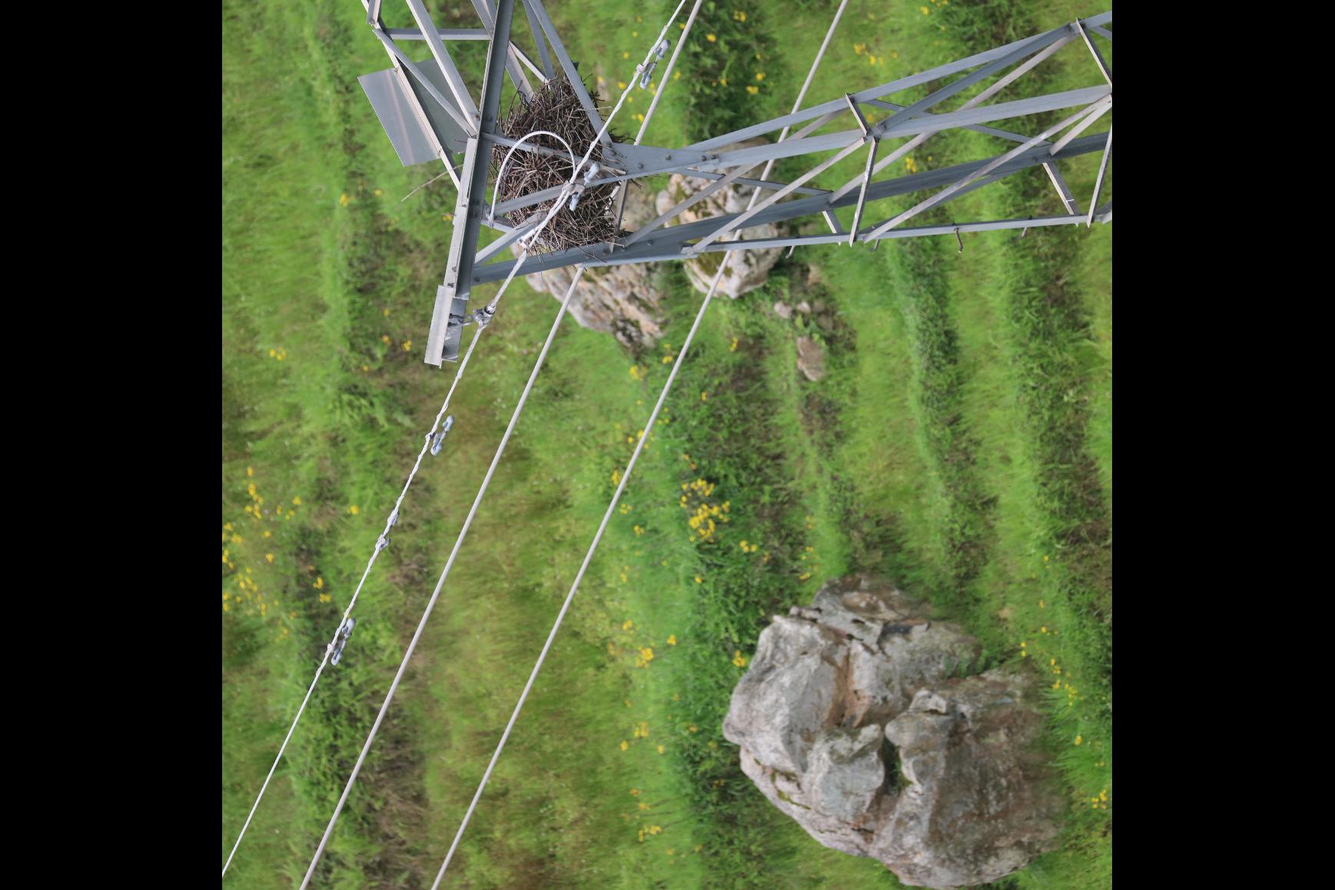damper: (633, 37, 673, 93), (566, 161, 603, 214), (326, 614, 360, 669), (422, 412, 457, 460)
nest: (489, 71, 622, 251)
